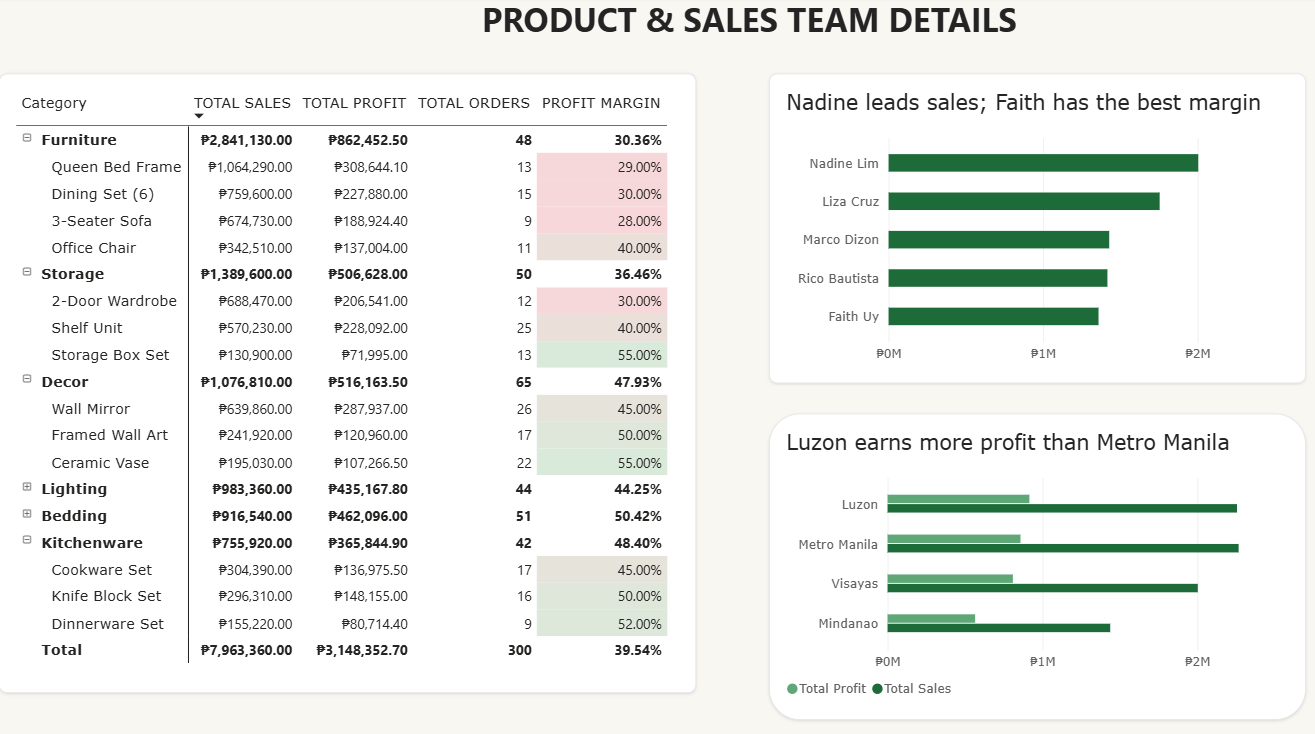

This screenshot's page, from the dashboard's own definition file:
{"tool":"powerbi","page":{"name":"Details","canvas":[1280,720],"ordinal":1},"visuals":[{"type":"textbox","box":[387.5,0,678.8,60],"z":0},{"type":"pivotTable","fields":{"Rows":["KuboHome_Sales.Category","KuboHome_Sales.Product"],"Values":["KuboHome_Sales.TOTAL SALES","KuboHome_Sales.TOTAL PROFIT","KuboHome_Sales.TOTAL ORDERS","KuboHome_Sales.PROFIT MARGIN"]},"box":[0,75,675,600],"z":1},{"type":"clusteredBarChart","title":"Nadine leads sales; Faith has the best margin","fields":{"Category":["KuboHome_Sales.Sales Rep"],"Y":["KuboHome_Sales.TOTAL SALES"]},"box":[746.2,75,520,300],"z":2},{"type":"clusteredBarChart","title":"Luzon earns more profit than Metro Manila","fields":{"Category":["KuboHome_Sales.Region"],"Y":["KuboHome_Sales.TOTAL PROFIT","Sum(KuboHome_Sales.Sales)"]},"box":[746.2,403.8,520,297],"z":3}]}

Visuals, with their boxes in screenshot pixels (x1, y1, x2, y2), scaled from the page's 1280x720 canvas onto the 1315x734 screenshot:
textbox: left=398, top=0, right=1095, bottom=61
pivotTable - KuboHome_Sales.Category x KuboHome_Sales.Product: left=0, top=76, right=693, bottom=688
"Nadine leads sales; Faith has the best margin" clusteredBarChart: left=767, top=76, right=1301, bottom=382
"Luzon earns more profit than Metro Manila" clusteredBarChart: left=767, top=412, right=1301, bottom=714
